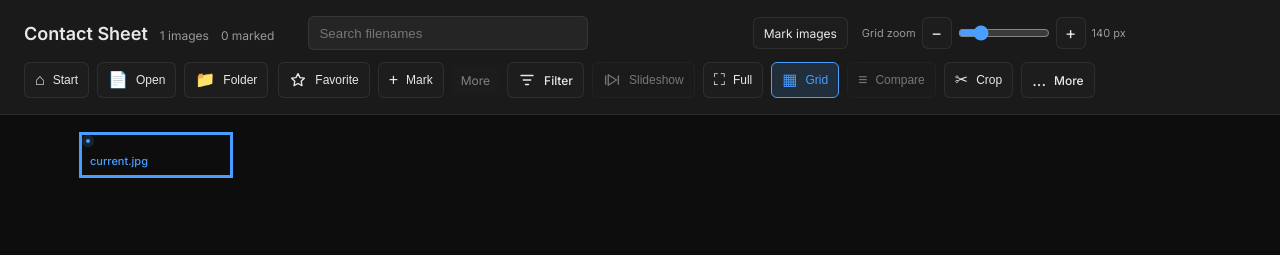
ContactSheet › shows the no-match message while keeping search available
Type "missing" into the search field labelled "Search filenames".
click(448, 33); type("missing")  # box x1=308 y1=16 x2=588 y2=50
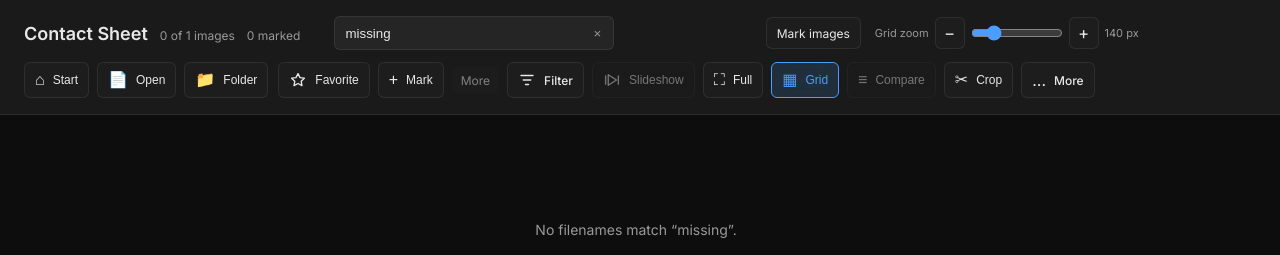
Expected: the text "No filenames match “missing”." is shown, x1=535 y1=220 x2=737 y2=238
